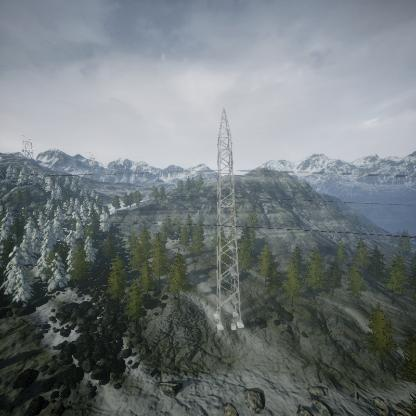tower: (213, 108, 245, 331)
